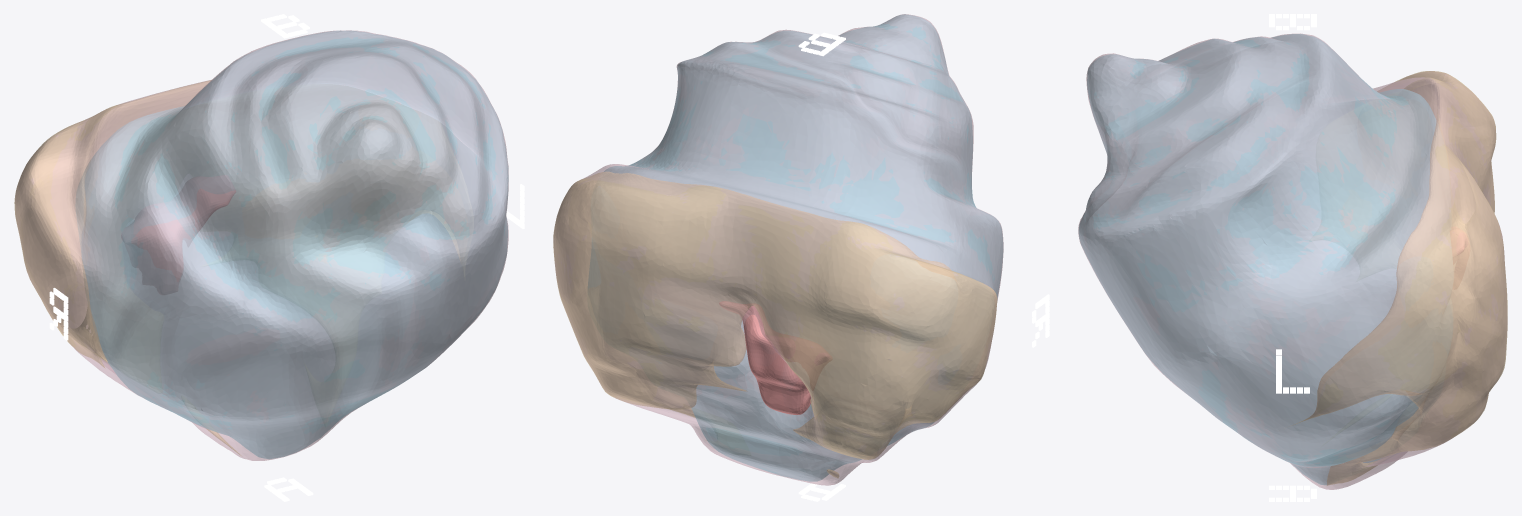
The picture shows the model from 3 angles, left to right: view 1: azimuth 30°, elevation 25°; view 2: azimuth 150°, elevation 25°; view 3: azimuth 270°, elevation 25°; orthographic projection. The views are drawn at different scales.
Visible parts, largest first — view 1: prostate_gland, transition_zone, peripheral_zone, lesion_01, pv_ar_marker_R, pv_ar_marker_B; view 2: prostate_gland, peripheral_zone, transition_zone, lesion_01; view 3: prostate_gland, transition_zone, peripheral_zone, lesion_01, pv_ar_marker_B.
Part boxes in pixels (x1=…): prostate_gland: x1=15, y1=30, x2=508, y2=460; transition_zone: x1=75, y1=31, x2=508, y2=458; peripheral_zone: x1=14, y1=80, x2=460, y2=454; lesion_01: x1=121, y1=175, x2=235, y2=294; pv_ar_marker_R: x1=49, y1=288, x2=68, y2=340; pv_ar_marker_B: x1=261, y1=14, x2=309, y2=38; prostate_gland: x1=553, y1=14, x2=1003, y2=485; peripheral_zone: x1=553, y1=171, x2=997, y2=477; transition_zone: x1=588, y1=14, x2=1003, y2=481; lesion_01: x1=719, y1=301, x2=831, y2=414; prostate_gland: x1=1078, y1=33, x2=1507, y2=489; transition_zone: x1=1079, y1=34, x2=1449, y2=484; peripheral_zone: x1=1295, y1=71, x2=1507, y2=485; lesion_01: x1=1450, y1=227, x2=1469, y2=288; pv_ar_marker_B: x1=1269, y1=14, x2=1316, y2=30.
Size of the model in its own units: 0.0606 by 0.0588 by 0.0484.
